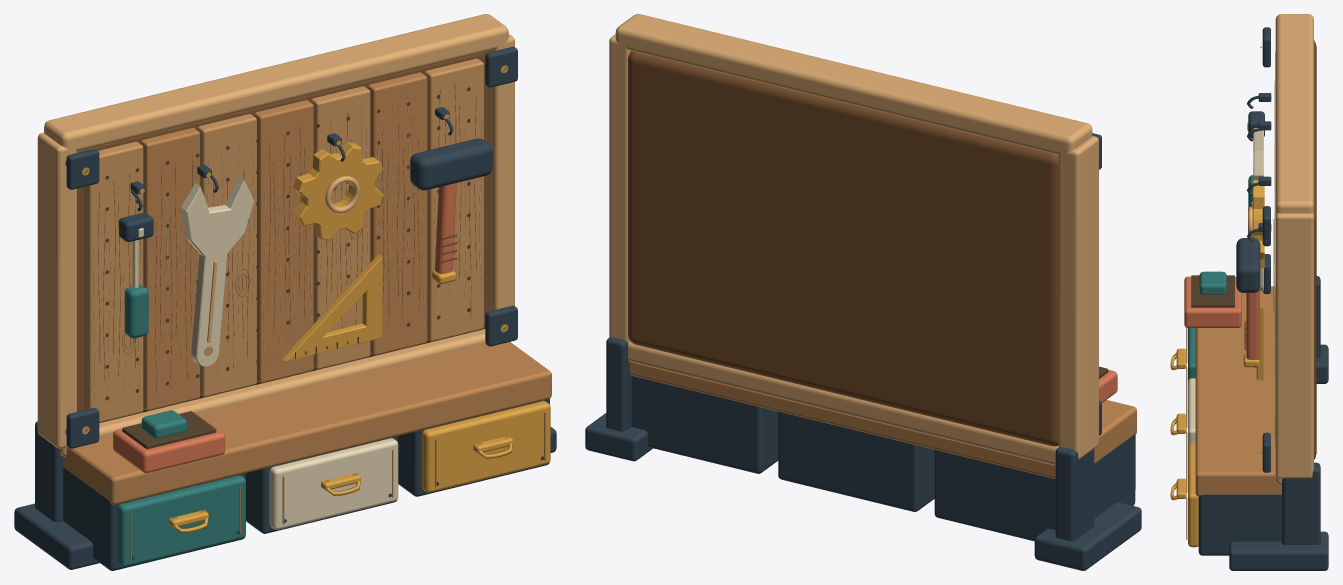
Rendered from workshop-tool-rack-medium-no-plants.glb.
3 views of the same model, side by side, from view 1: azimuth 30°, elevation 25°; view 2: azimuth 150°, elevation 25°; view 3: azimuth 270°, elevation 25° (orthographic). The views are drawn at different scales.
Parts seen in each view (by area): view 1: timber, plank, edge, navy, brass, cream, teal, grain, darkWood, coral, grainLight, shadow; view 2: darkWood, edge, navy, timber; view 3: edge, navy, timber, brass, coral, darkWood, teal, cream, shadow, grain, plank.
Boxes of the visible parts, x1,y1,x2,y2 form: timber: (63,72,551,504); plank: (84,58,483,422); edge: (37,14,514,456); navy: (14,46,556,570); brass: (82,65,550,532); cream: (132,176,398,529); teal: (117,285,245,566); grain: (98,82,545,561); darkWood: (77,51,506,432); coral: (113,183,456,473); grainLight: (93,94,481,407); shadow: (105,87,470,449); darkWood: (628,51,1058,446); edge: (609,14,1098,465); navy: (585,133,1141,570); timber: (629,362,1136,478); edge: (1248,14,1313,485); navy: (1198,27,1328,570); timber: (1195,75,1281,496); brass: (1170,180,1264,547); coral: (1184,276,1259,359); darkWood: (1244,40,1316,459); teal: (1188,175,1253,380); cream: (1188,122,1263,445); shadow: (1191,275,1256,367); grain: (1186,81,1274,539); plank: (1275,51,1275,448).
Bounding box in the file's own units: 1.54 × 1.25 × 0.4932.
